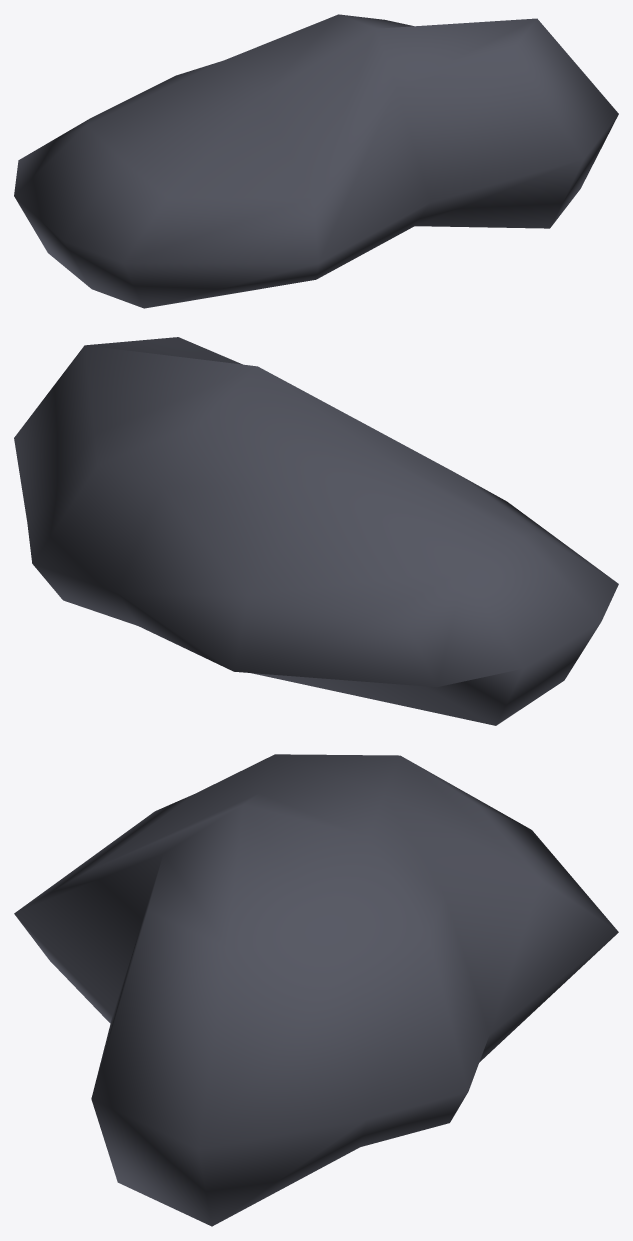
Rendered from Stone4.fbx.
3 views of the same model, one above another, from view 1: azimuth 30°, elevation 25°; view 2: azimuth 150°, elevation 25°; view 3: azimuth 270°, elevation 25° (orthographic). The views are drawn at different scales.
Visible parts, largest first — view 1: Stone_mid_006; view 2: Stone_mid_006; view 3: Stone_mid_006.
Part boxes in pixels (bbox=[...]): Stone_mid_006: bbox=[14, 14, 618, 308]; Stone_mid_006: bbox=[14, 337, 618, 725]; Stone_mid_006: bbox=[14, 754, 618, 1226].
Bounding box in the file's own units: 295 × 109 × 202.
